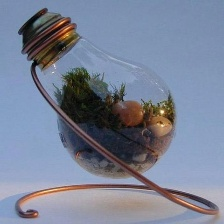light_bulb: (20, 6, 179, 182)
